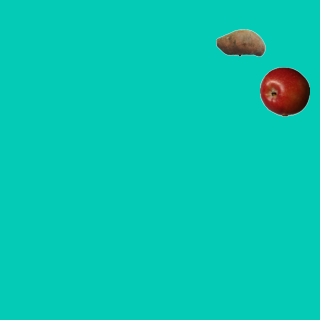Apple Braeburn: (259, 66, 309, 116)
Potato Sweet: (215, 17, 265, 67)
